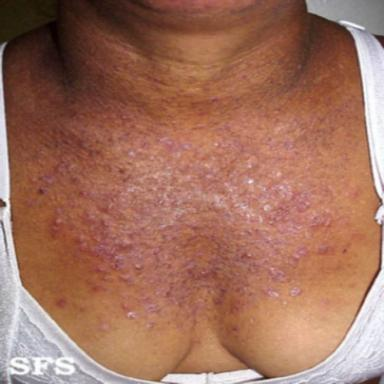Darier_s-Disease: (15, 0, 367, 326)
